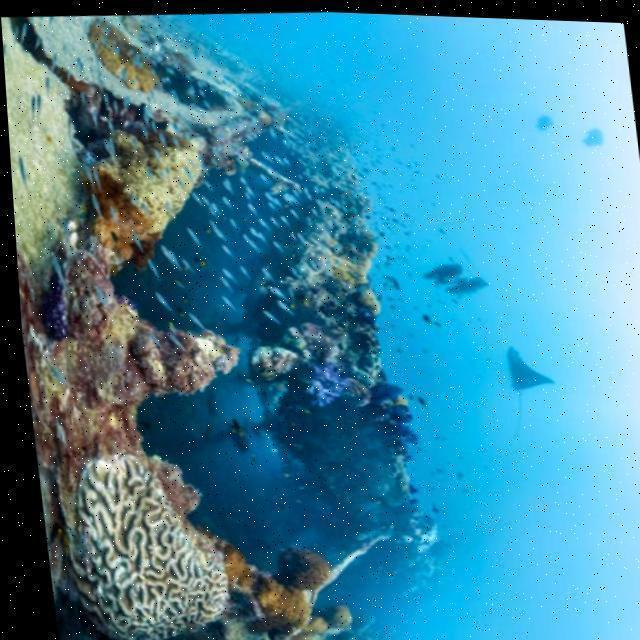Dead Coral: (44, 431, 227, 640)
